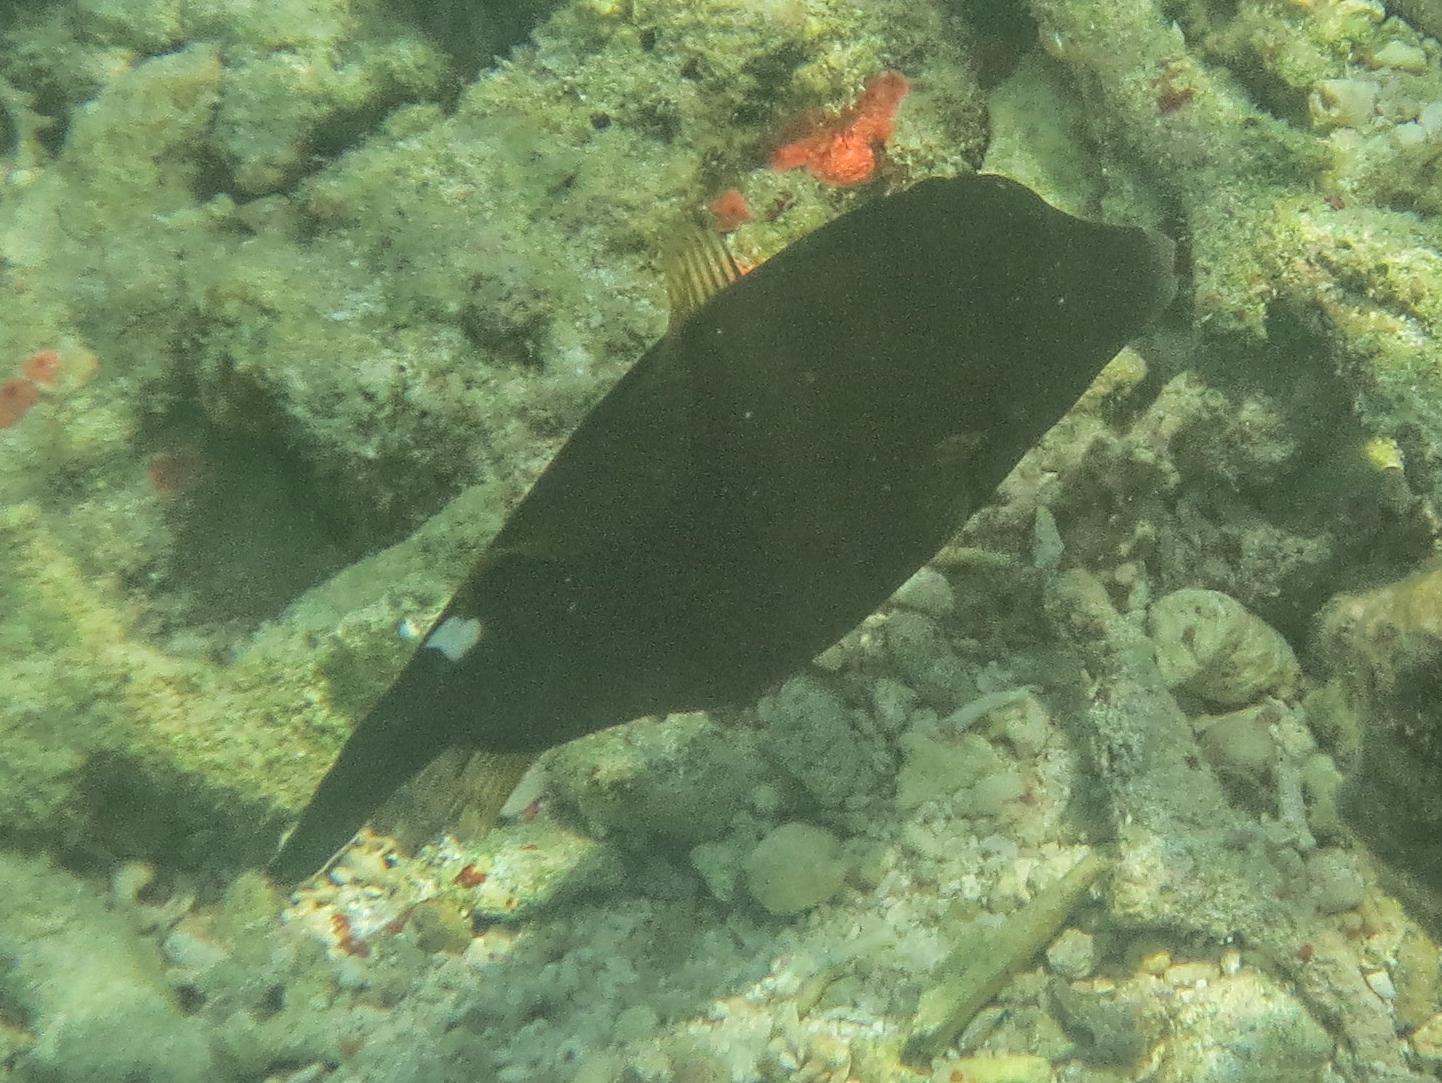Fish: (248, 146, 1230, 907)
